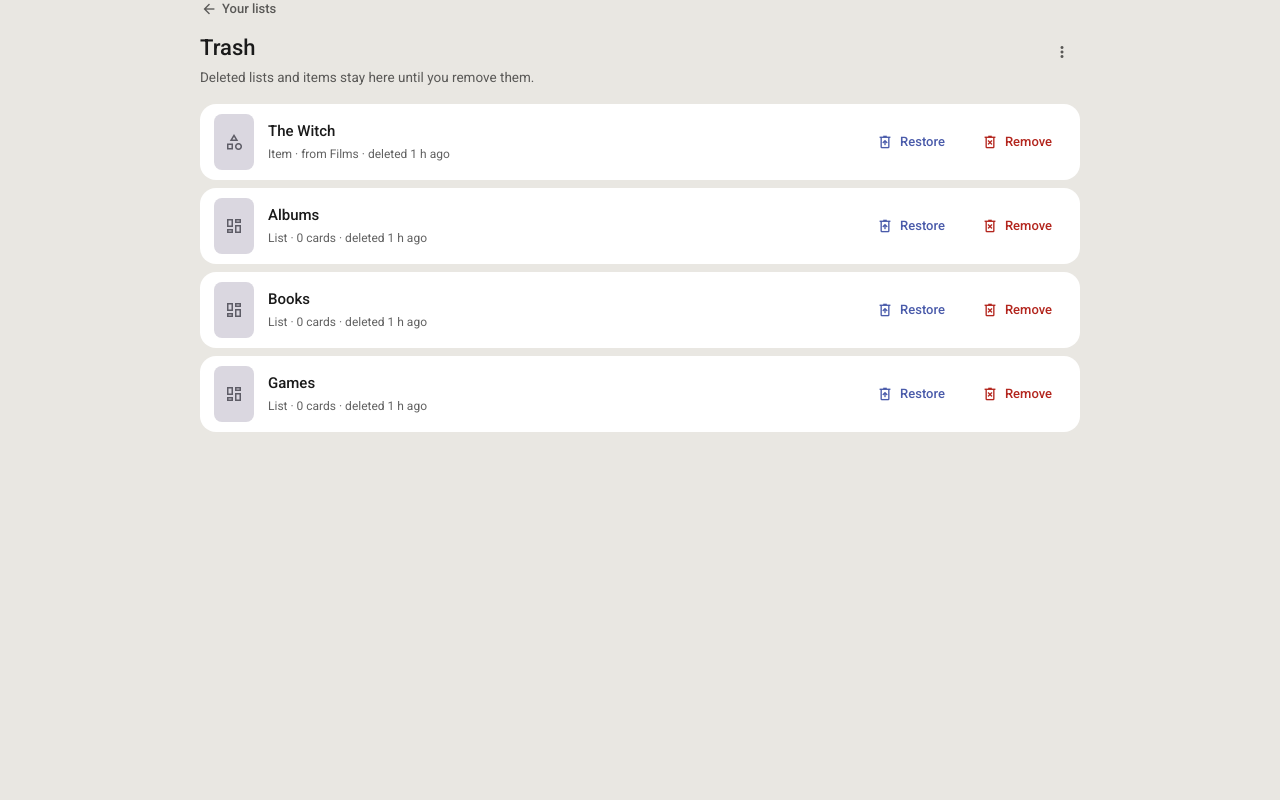
TrashPage › empties all but a board whose list is still out there, which stays for the next try
Step 1. Click the heading named "More options" → (1062, 52), box 1052,40 -> 1072,64
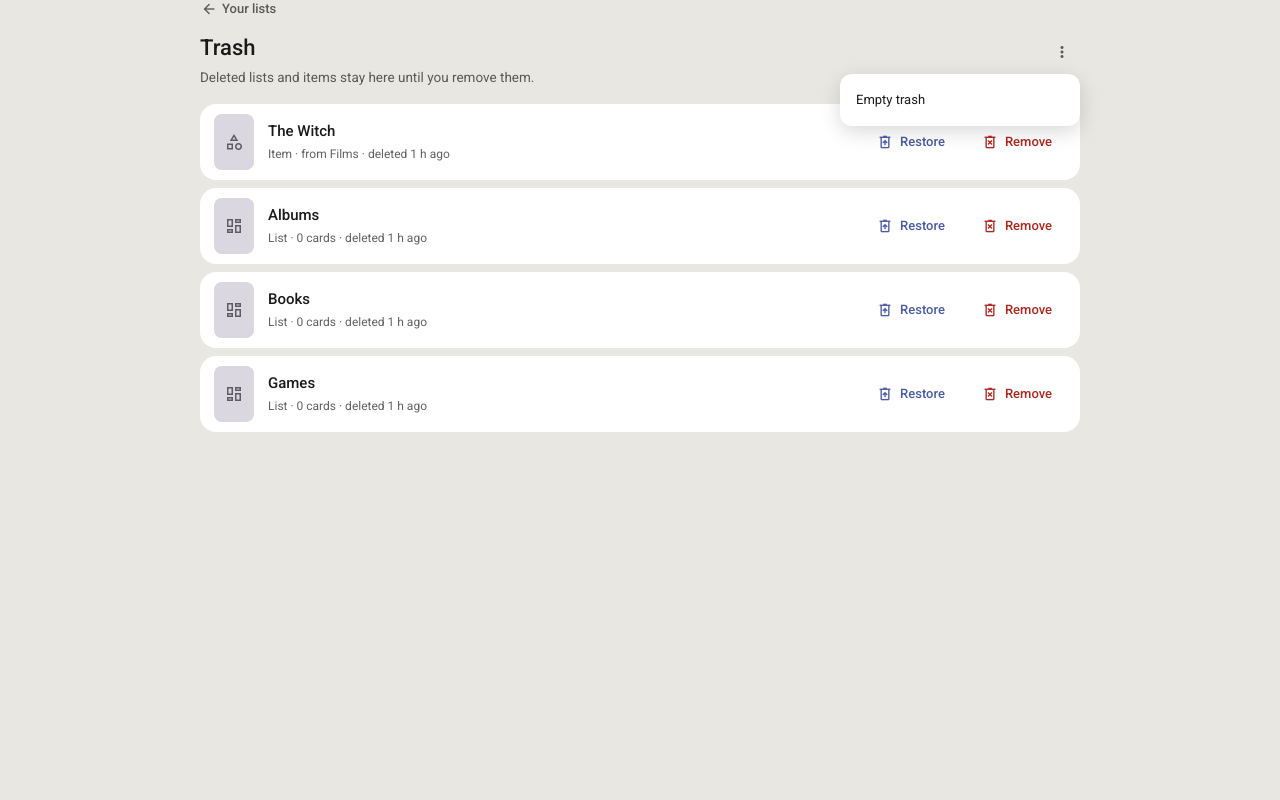
Step 2. Click the button "Empty trash" → (960, 100), box 840,80 -> 1080,120
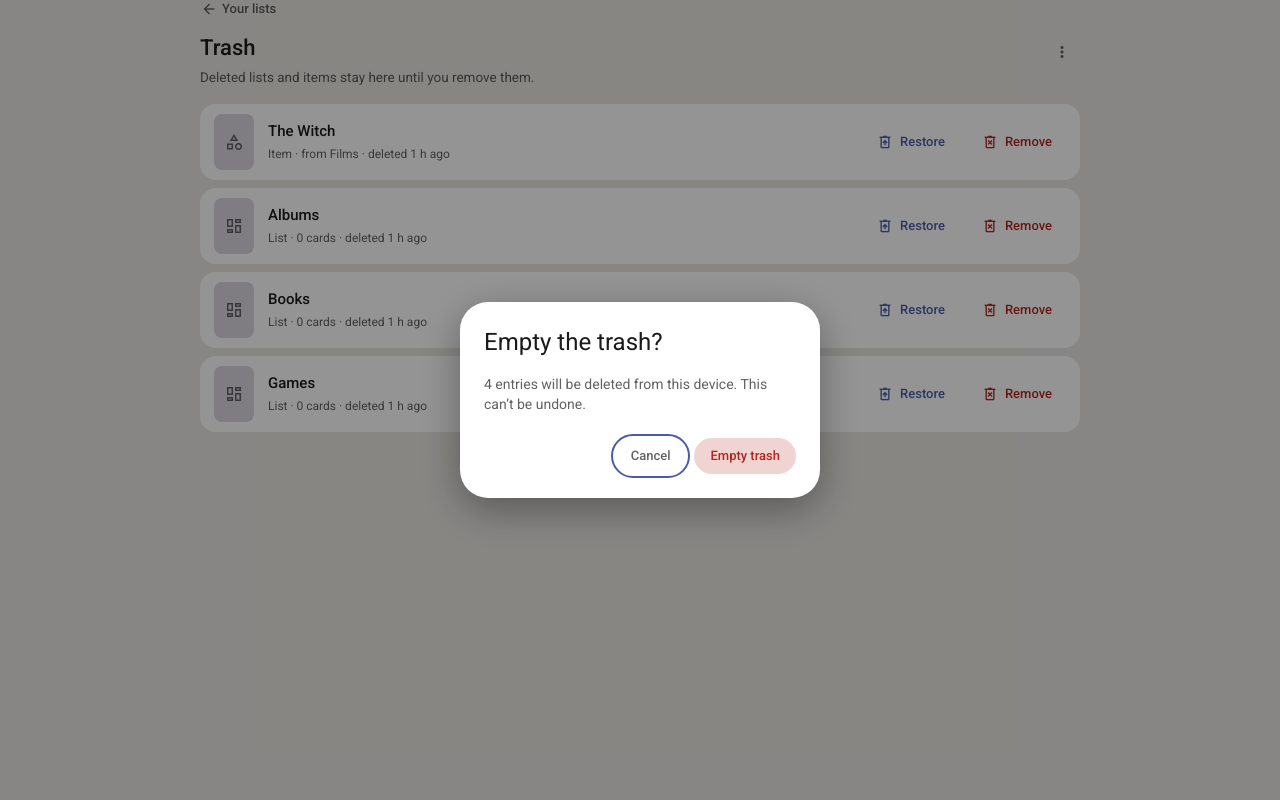
Step 3. Click the button "Empty trash" → (745, 456), box 694,438 -> 796,474
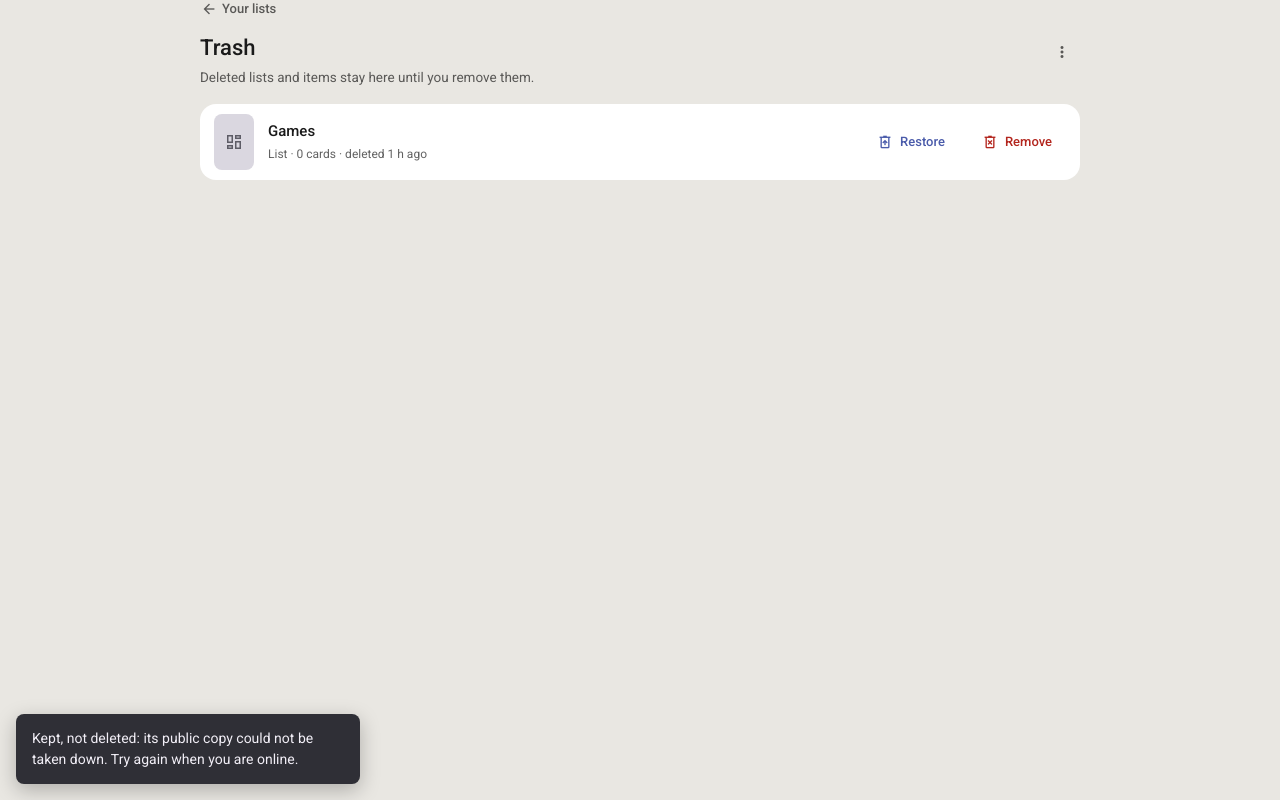
Result: the message shows "Kept, not deleted: its public copy could not be taken down. Try again when you are online." at 32,730 -> 313,767
